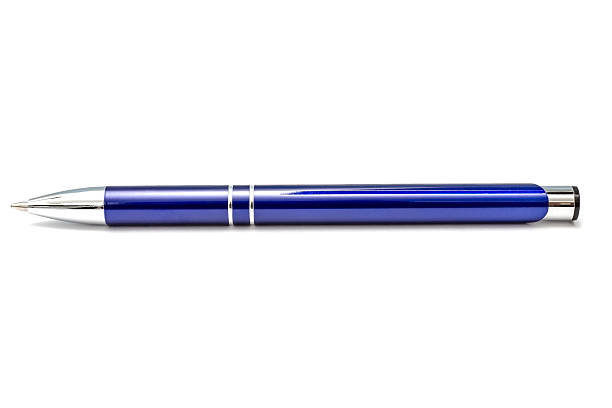pen: (4, 168, 598, 241)
